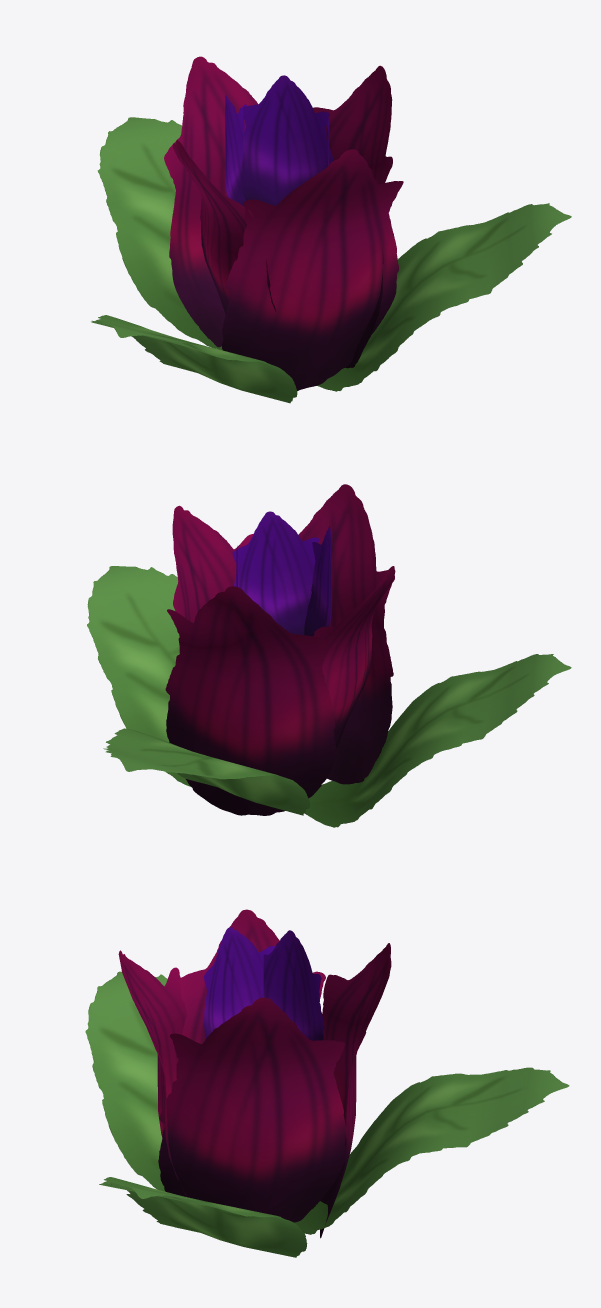
Rendered from FlorMediana.fbx.
3 renders of one model, top to bottom at view 1: azimuth 30°, elevation 25°; view 2: azimuth 150°, elevation 25°; view 3: azimuth 270°, elevation 25°, orthographic. The views are drawn at different scales.
Parts seen in each view (by area): view 1: Flor4; view 2: Flor4; view 3: Flor4.
Boxes of the visible parts, x1=… form: Flor4: x1=91, y1=56, x2=571, y2=403; Flor4: x1=87, y1=484, x2=571, y2=827; Flor4: x1=85, y1=909, x2=569, y2=1257.
Bounding box in the file's own units: 62.57 × 30.65 × 54.19.
